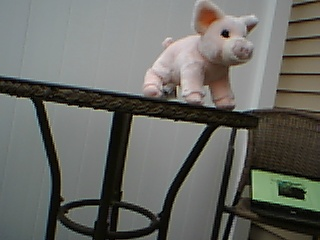piggy: (142, 1, 261, 111)
